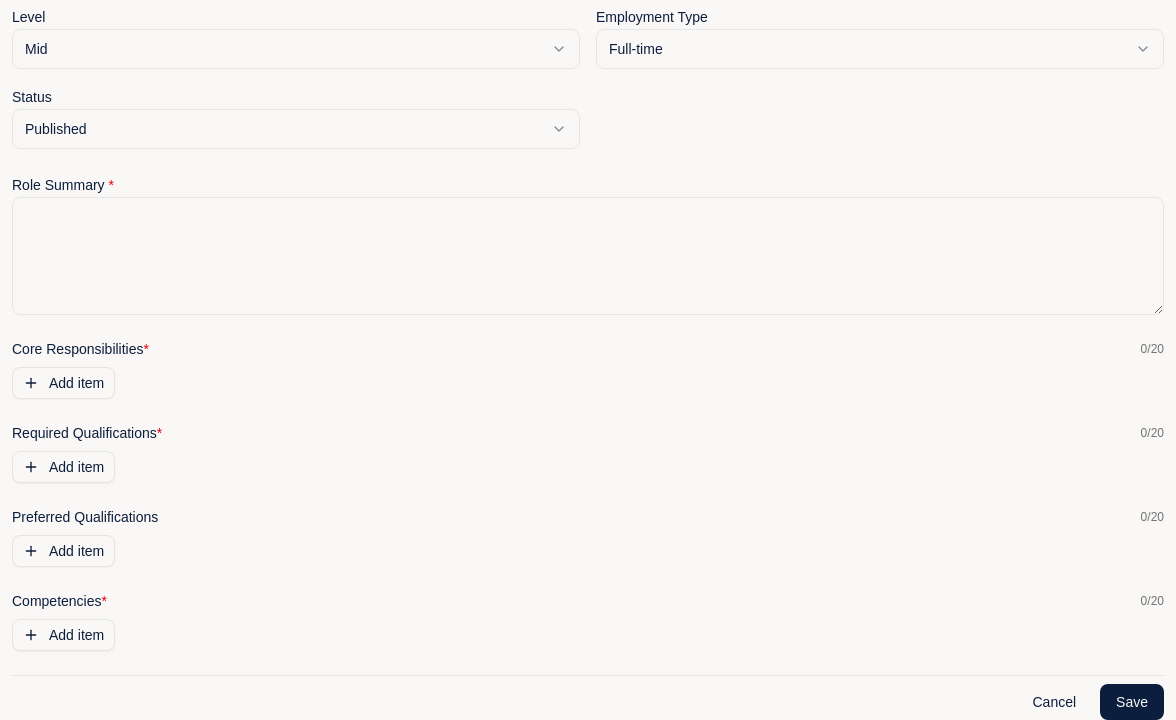
Test: JdForm › shows validation errors when submit is clicked with empty form
(page scrolled)
Step 1. Click the button "Save" → (1132,702), box [1100, 684, 1164, 719]
(page scrolled)
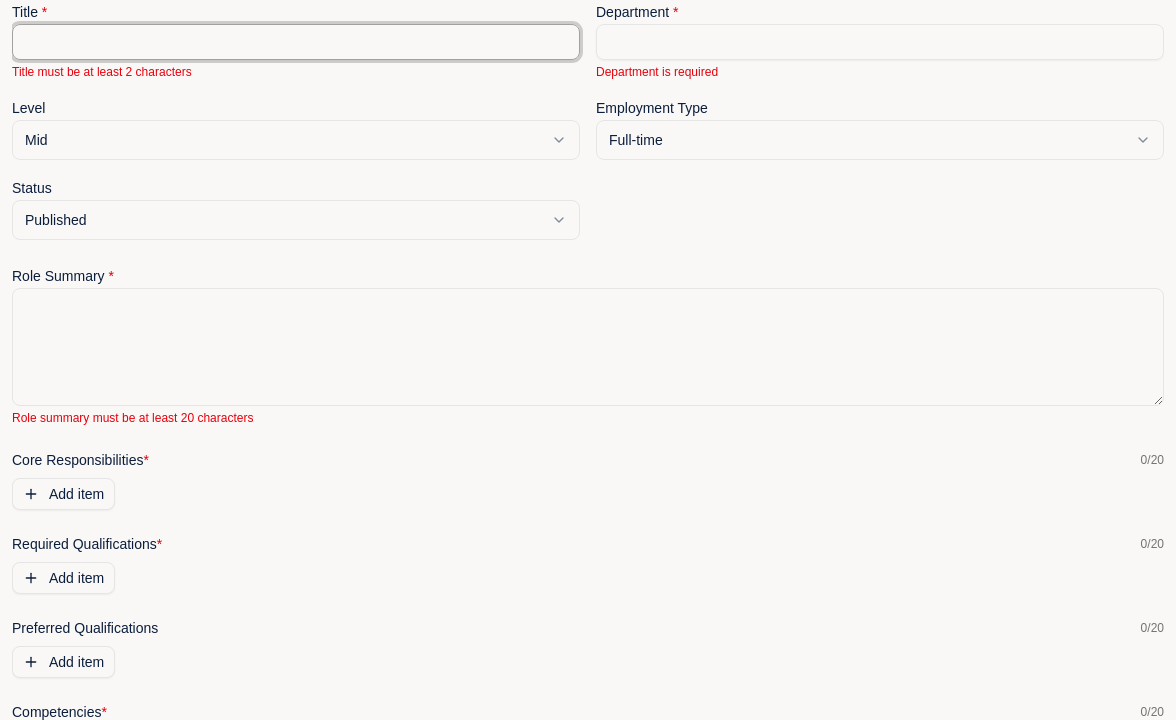
Now the text "Title must be at least 2 characters" is shown, box [12, 65, 192, 79]
